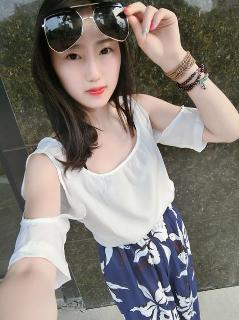long sleeve top: (7, 92, 212, 290)
skirt: (98, 202, 201, 319)
